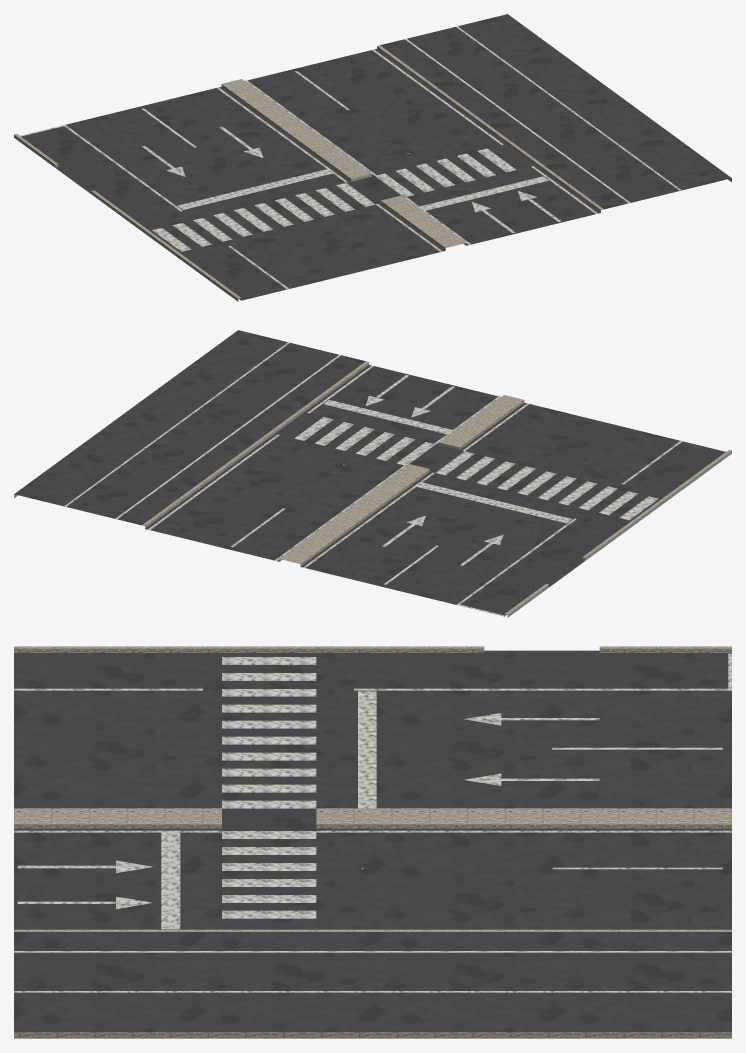
File: SM_Viale_Italia_Incrocio.fbx
3 renders of one model, top to bottom at view 1: azimuth 30°, elevation 25°; view 2: azimuth 150°, elevation 25°; view 3: azimuth 270°, elevation 25°, orthographic. The views are drawn at different scales.
Parts seen in each view (by area): view 1: SM_Viale_Italia_Incrocio; view 2: SM_Viale_Italia_Incrocio; view 3: SM_Viale_Italia_Incrocio.
Part boxes in pixels (box(x1,y1,x2,y2)): SM_Viale_Italia_Incrocio: box(14, 14, 731, 301); SM_Viale_Italia_Incrocio: box(14, 330, 731, 617); SM_Viale_Italia_Incrocio: box(14, 646, 731, 1038).
Bounding box in the file's own units: 2415 × 1900 × 20.5.
Materials: 3 (3 with a texture image).
